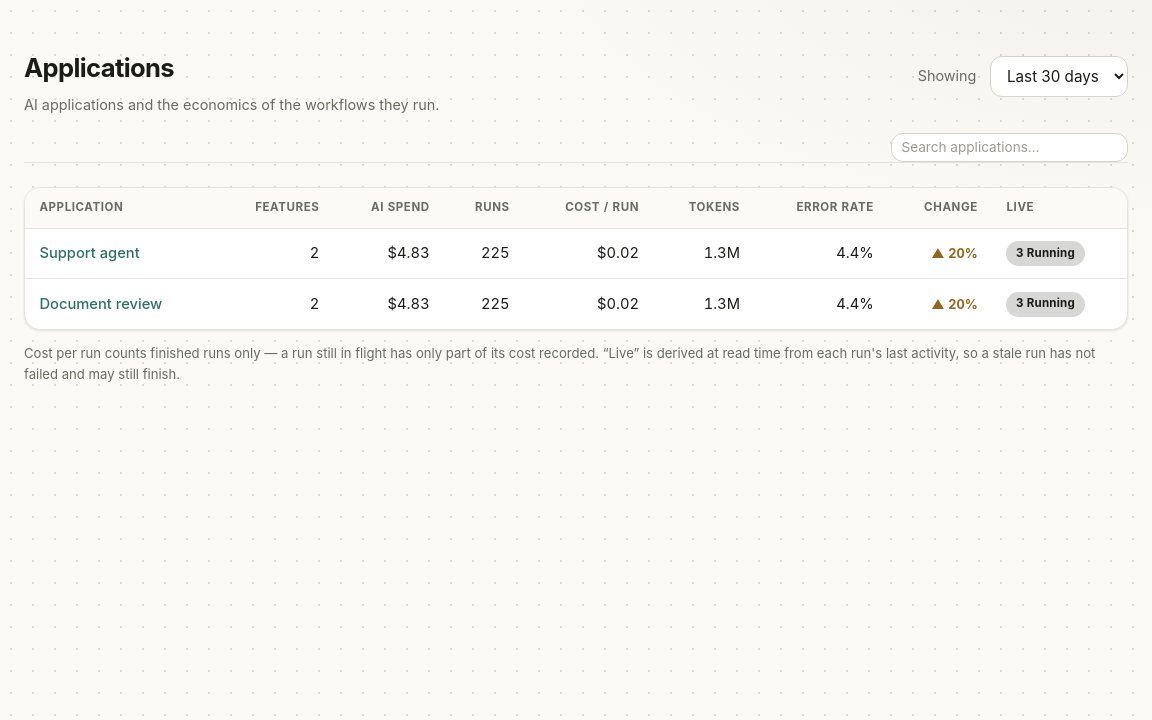
Test: Applications — the list › says a search found nothing, rather than showing an empty table
Step 1. Type "zzz" into the search field labelled "Search applications" → (1009, 147), box [891,133,1128,162]
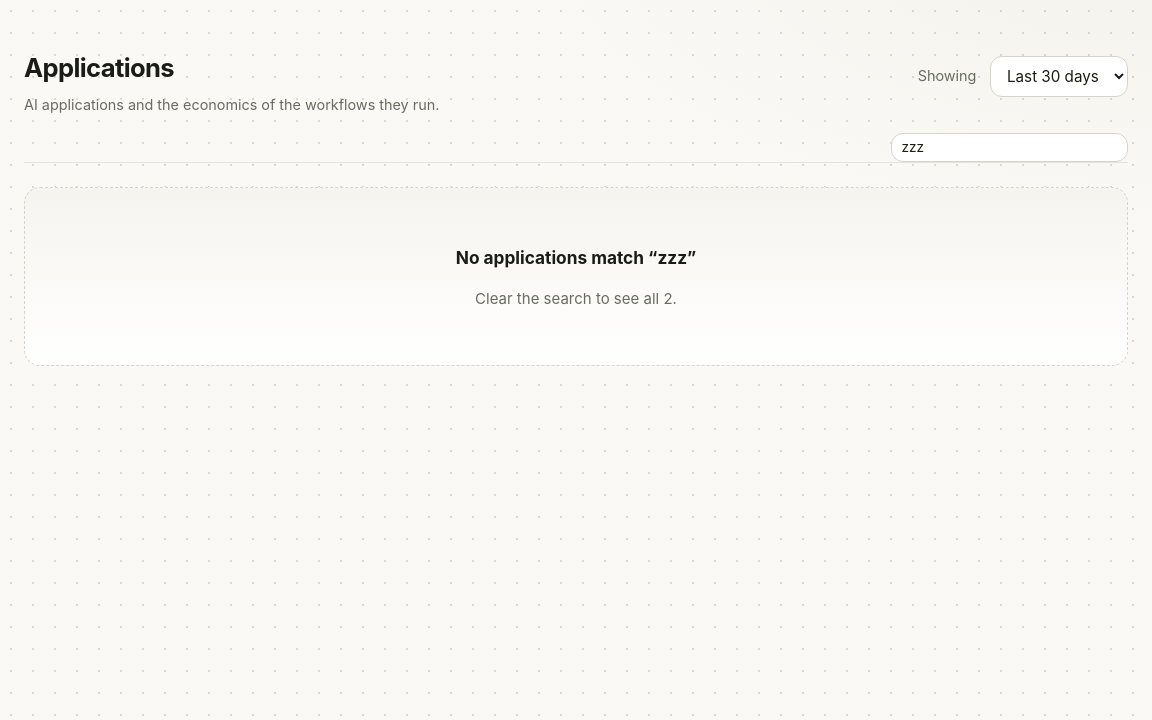
Expected: the text "No applications match “zzz”" is shown, [456,247,696,268]
Expected: the table is gone
